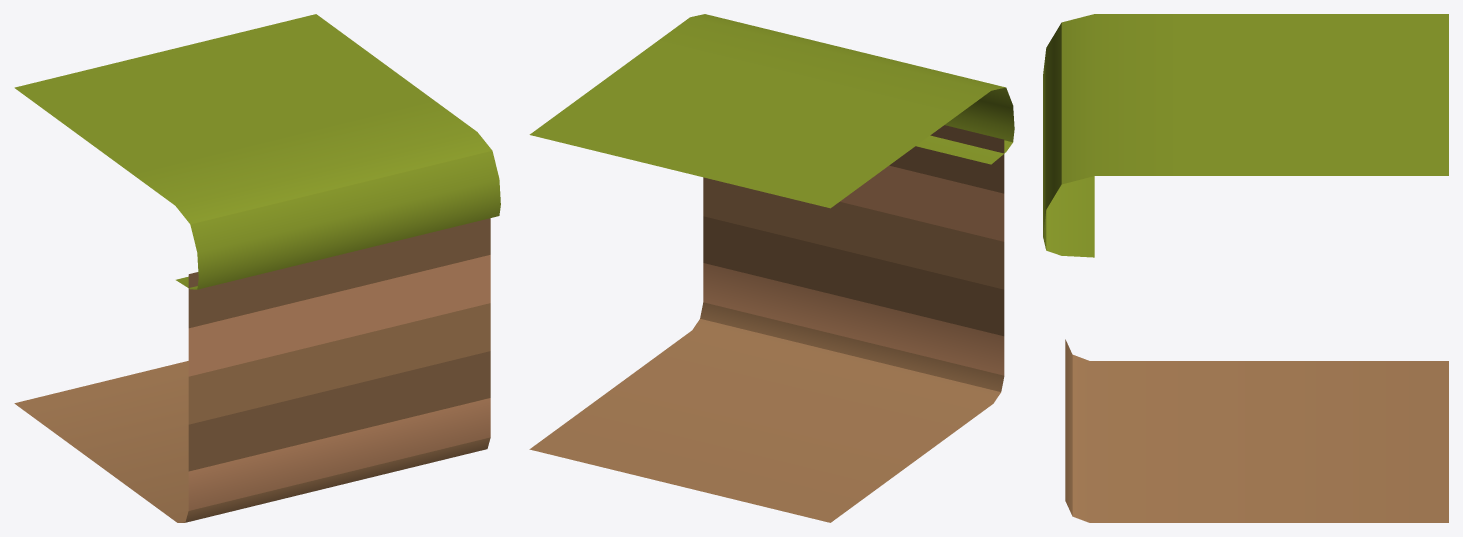
File: Cube_Grass_Side.fbx
3 views of the same model, side by side, from view 1: azimuth 30°, elevation 25°; view 2: azimuth 150°, elevation 25°; view 3: azimuth 270°, elevation 25° (orthographic). The views are drawn at different scales.
Parts seen in each view (by area): view 1: Cube_Grass_Side; view 2: Cube_Grass_Side; view 3: Cube_Grass_Side.
Part boxes in pixels (bbox=[...]): Cube_Grass_Side: bbox=[14, 14, 500, 522]; Cube_Grass_Side: bbox=[529, 14, 1014, 522]; Cube_Grass_Side: bbox=[1043, 14, 1448, 522].
Size of the model in its own units: 200 by 200 by 212.
